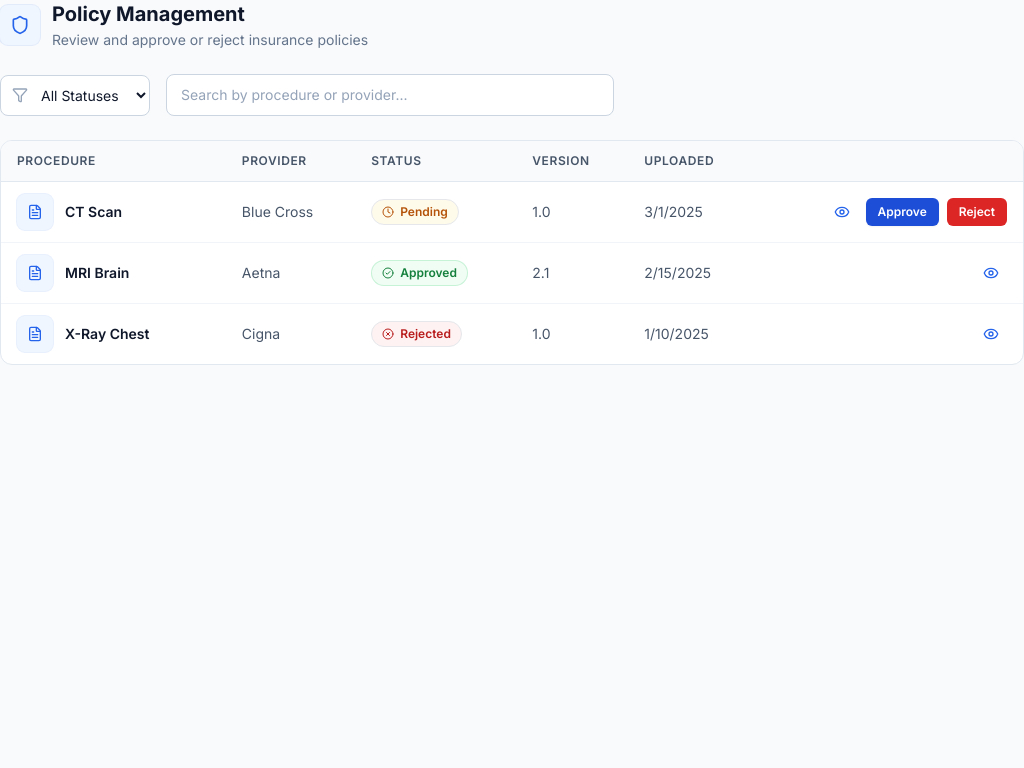
Scenario: PolicyManagement › rejects a policy with a comment
The image size is (1024, 768).
Expected: the text "CT Scan" is shown, left=65, top=202, right=122, bottom=222
Step 1. Click the button "Reject" → (977, 212), box left=947, top=198, right=1007, bottom=226
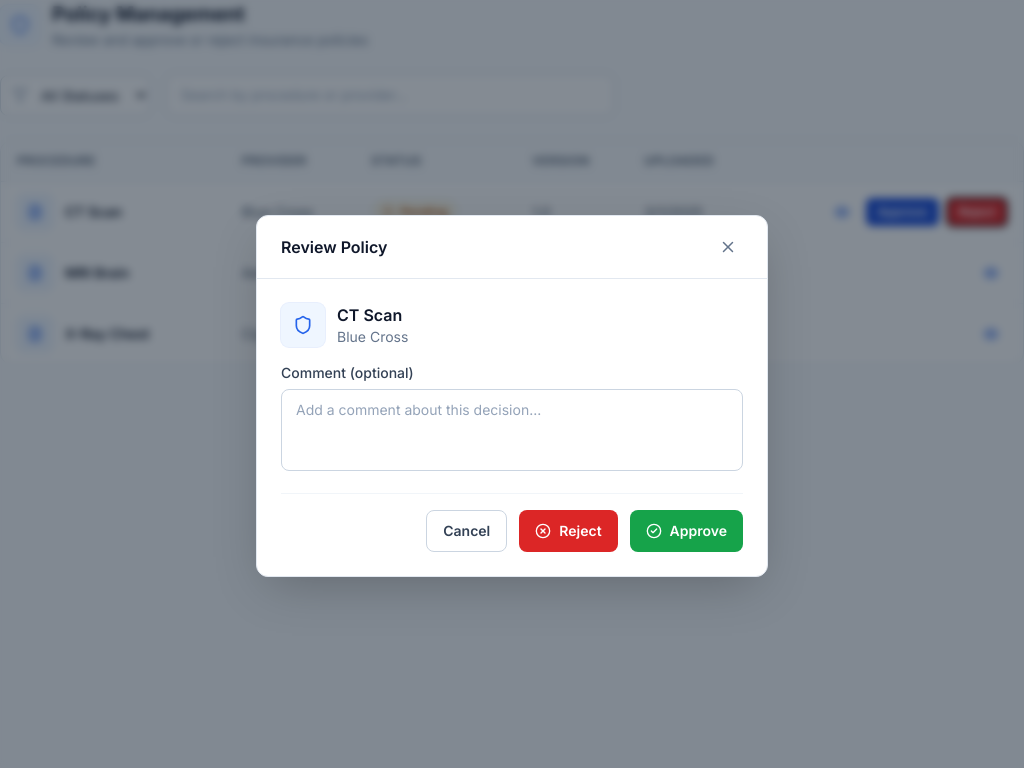
Expected: the heading "Review Policy" is shown, left=281, top=235, right=387, bottom=259
Step 2. Type "Missing required documentation" into the text box with placeholder "Add a comment about this decision..." → (512, 430), box left=281, top=389, right=743, bottom=471
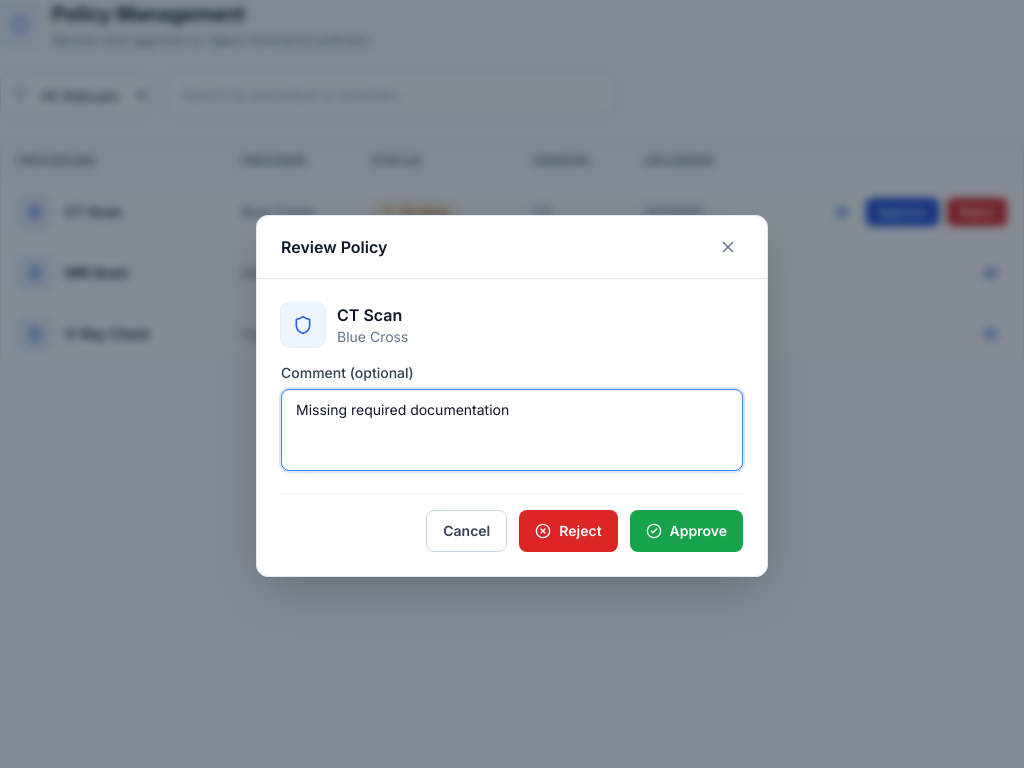
Step 3. Click the button "Reject" → (568, 531), box left=519, top=510, right=618, bottom=552
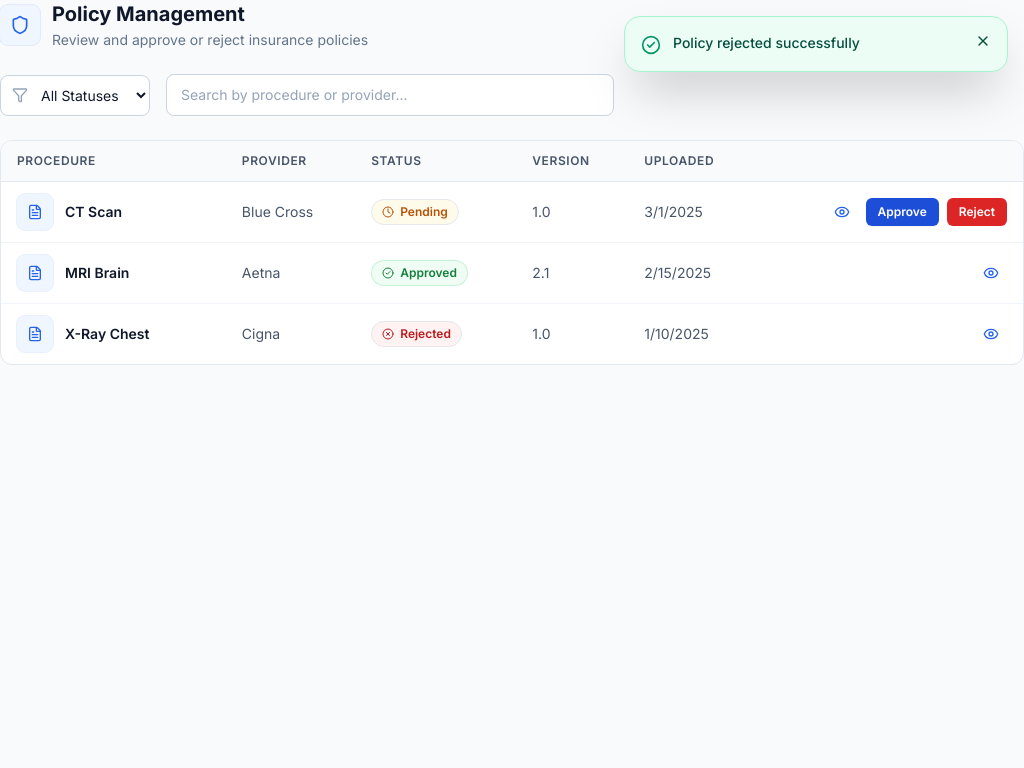
Expected: the text "Policy rejected successfully" is shown, left=673, top=34, right=860, bottom=51
